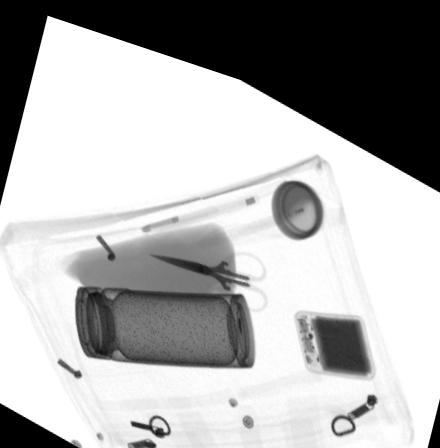Powerbank: (293, 287, 376, 356)
Scissors: (147, 231, 268, 295)
